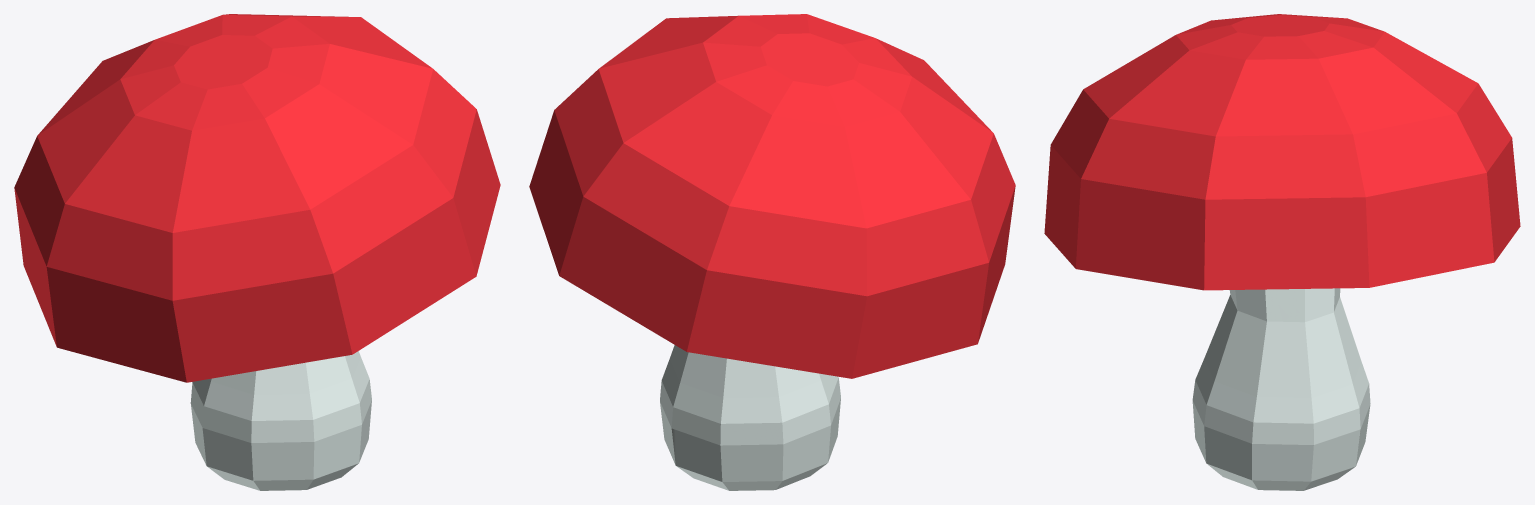
File: Mushroom.glb
The picture shows the model from 3 angles, left to right: view 1: azimuth 30°, elevation 25°; view 2: azimuth 150°, elevation 25°; view 3: azimuth 270°, elevation 25°; orthographic projection.
Parts seen in each view (by area): view 1: Mushroom; view 2: Mushroom; view 3: Mushroom.
Part boxes in pixels (left/top/right/bottom): Mushroom: left=14, top=14, right=500, bottom=490; Mushroom: left=529, top=14, right=1015, bottom=490; Mushroom: left=1044, top=14, right=1520, bottom=490.
Bounding box in the file's own units: 0.4056 × 0.3994 × 0.4092.
Materials: 1 (1 with a texture image).
